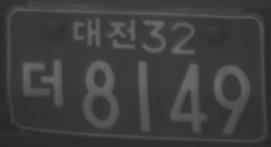1: (129, 59, 158, 134)
2: (169, 20, 197, 56)
3: (139, 18, 169, 55)
4: (167, 61, 209, 135)
8: (79, 58, 121, 130)
9: (211, 63, 252, 136)
대전_O: (71, 17, 137, 51)
더: (19, 57, 65, 108)
